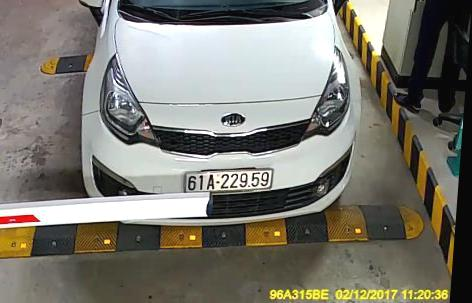License_Plate: (182, 170, 275, 191)
